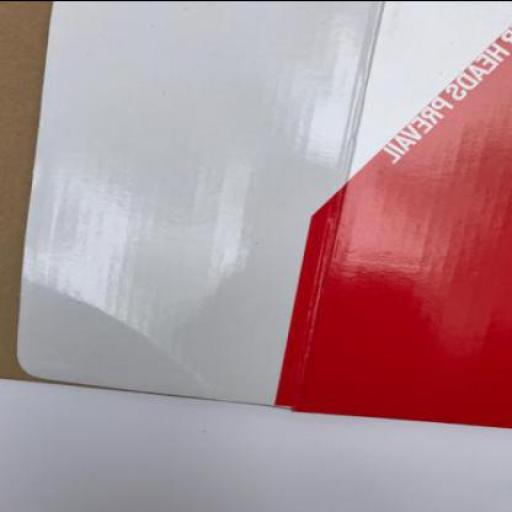cardboard: (0, 2, 511, 428)
